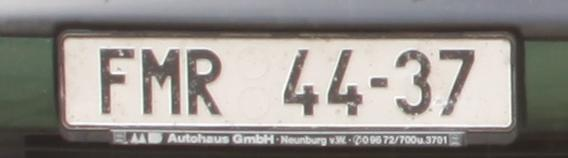-: (368, 78, 385, 89)
3: (396, 51, 429, 114)
4: (329, 50, 362, 114), (285, 49, 317, 114)
7: (439, 50, 475, 115)
F: (100, 50, 133, 113)
M: (141, 50, 181, 115)
R: (187, 50, 221, 114)
